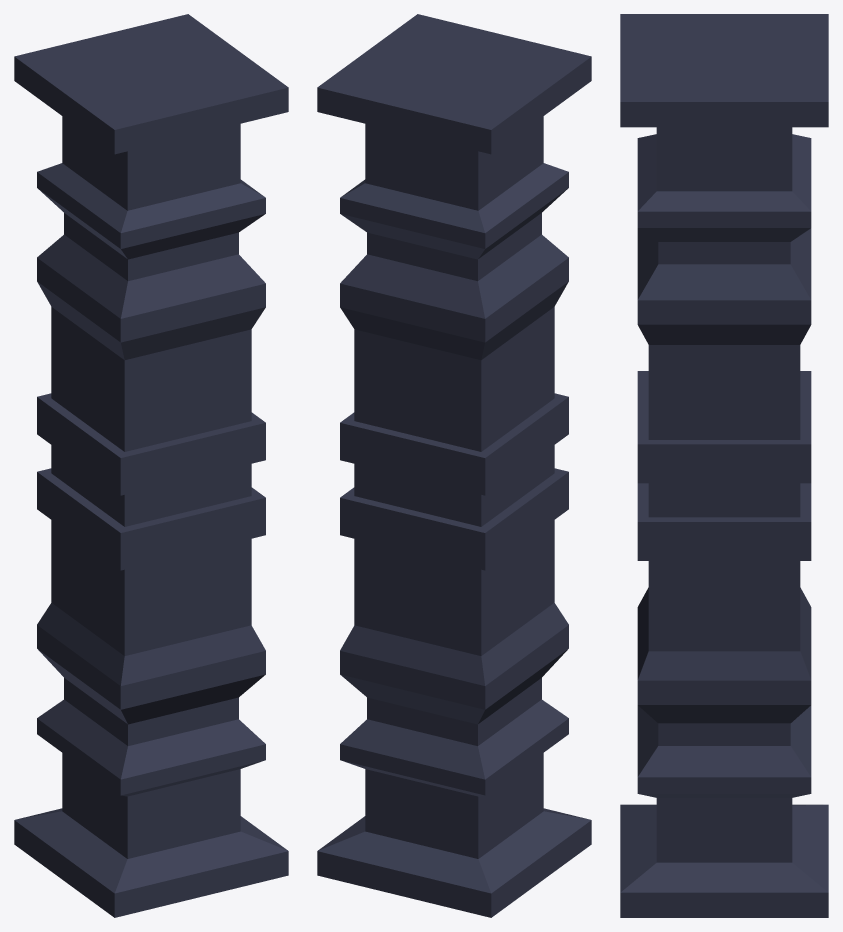
The model's file is Pillar.fbx.
3 renders of one model, left to right at view 1: azimuth 30°, elevation 25°; view 2: azimuth 150°, elevation 25°; view 3: azimuth 270°, elevation 25°, orthographic. The views are drawn at different scales.
Parts seen in each view (by area): view 1: Pillar; view 2: Pillar; view 3: Pillar.
Part boxes in pixels (bbox=[...]): Pillar: bbox=[14, 14, 288, 917]; Pillar: bbox=[317, 14, 591, 917]; Pillar: bbox=[620, 14, 828, 917].
Size of the model in its own units: 69.35 by 300 by 69.35.
